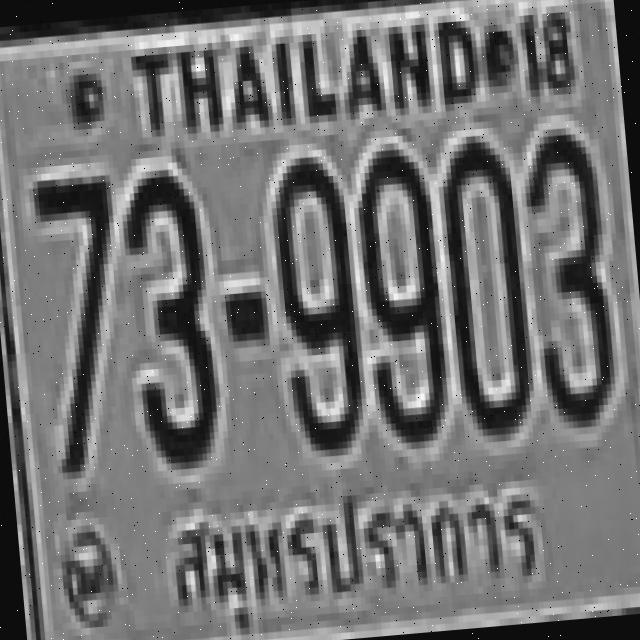0: (348, 136, 446, 442), (266, 148, 364, 452), (434, 132, 532, 430)
3: (117, 160, 220, 465), (518, 125, 616, 424)
7: (27, 168, 130, 473), (27, 168, 122, 378)
9: (348, 140, 446, 445), (266, 148, 364, 452)
SamutPrakan: (156, 464, 552, 640)
